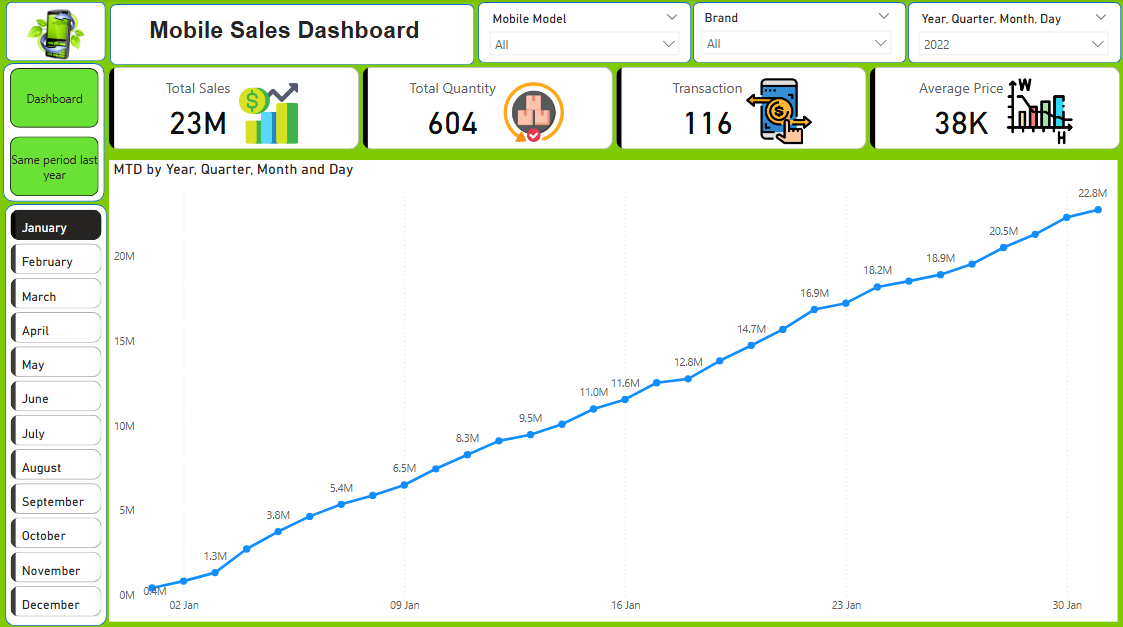

Layout of this report page (visuals, bound fields, positions):
{"tool":"powerbi","page":{"name":"MTD Report","canvas":[1280,720],"ordinal":1},"visuals":[{"type":"shape","box":[5.1,2.6,115.7,69.4],"z":0},{"type":"image","box":[6.4,5.1,114.4,69.4],"z":1000},{"type":"shape","box":[3.9,73,115.7,158.1],"z":2000},{"type":"shape","box":[1034,3.9,242.9,69.4],"z":3000},{"type":"shape","box":[789,3.9,242.9,69.4],"z":4000},{"type":"shape","box":[544,3.9,242.9,69.4],"z":5000},{"type":"slicer","fields":{"Values":["Mobile Sales Data.Mobile Model"]},"box":[547.5,9,236.5,61],"z":6000},{"type":"slicer","fields":{"Values":["Mobile Sales Data.Brand"]},"box":[789.1,7.7,236.5,60.4],"z":7000},{"type":"slicer","fields":{"Values":["Custome_Calander.Date.Variation.Date Hierarchy.Year","Custome_Calander.Date.Variation.Date Hierarchy.Quarter","Custome_Calander.Date.Variation.Date Hierarchy.Month","Custome_Calander.Date.Variation.Date Hierarchy.Day"]},"box":[1037.1,9,236.5,60.4],"z":8000},{"type":"cardVisual","fields":{"Data":["Mobile Sales Data.Total Sales","Mobile Sales Data.Total Quantity","Mobile Sales Data.Transaction","Mobile Sales Data.Average Price"]},"box":[123,76,1154.1,96],"z":9000},{"type":"shape","box":[125,5.1,415.1,69.4],"z":10000},{"type":"textbox","box":[159.4,20.6,329,37.3],"z":11000},{"type":"lineChart","fields":{"Category":["Custome_Calander.Date.Variation.Date Hierarchy.Year","Custome_Calander.Date.Variation.Date Hierarchy.Quarter","Custome_Calander.Date.Variation.Date Hierarchy.Month","Custome_Calander.Date.Variation.Date Hierarchy.Day"],"Y":["Mobile Sales Data.MTD"]},"box":[124.7,183.8,1148.9,525.6],"z":12000},{"type":"shape","box":[5.1,233.9,116,481],"z":13000},{"type":"advancedSlicerVisual","fields":{"Values":["Custome_Calander.Date.Variation.Date Hierarchy.Month"]},"box":[6.4,235.2,114.4,474.2],"z":14000},{"type":"pageNavigator","box":[11.6,78.4,101.5,146.5],"z":15000}]}

Visuals, with their boxes in screenshot pixels (x1, y1, x2, y2), scaled from the page's 1280x720 canvas onto the 1123x627 screenshot:
shape: x1=4, y1=2, x2=106, y2=63
image: x1=6, y1=4, x2=106, y2=65
shape: x1=3, y1=64, x2=105, y2=201
shape: x1=907, y1=3, x2=1120, y2=64
shape: x1=692, y1=3, x2=905, y2=64
shape: x1=477, y1=3, x2=690, y2=64
slicer - Mobile Sales Data.Mobile Model: x1=480, y1=8, x2=688, y2=61
slicer - Mobile Sales Data.Brand: x1=692, y1=7, x2=900, y2=59
slicer - Custome_Calander.Date.Variation.Date Hierarchy.Year x Custome_Calander.Date.Variation.Date Hierarchy.Quarter: x1=910, y1=8, x2=1117, y2=60
cardVisual - Mobile Sales Data.Total Sales x Mobile Sales Data.Total Quantity: x1=108, y1=66, x2=1120, y2=150
shape: x1=110, y1=4, x2=474, y2=65
textbox: x1=140, y1=18, x2=428, y2=50
lineChart - Custome_Calander.Date.Variation.Date Hierarchy.Year x Custome_Calander.Date.Variation.Date Hierarchy.Quarter: x1=109, y1=160, x2=1117, y2=618
shape: x1=4, y1=204, x2=106, y2=623
advancedSlicerVisual - Custome_Calander.Date.Variation.Date Hierarchy.Month: x1=6, y1=205, x2=106, y2=618
pageNavigator: x1=10, y1=68, x2=99, y2=196
